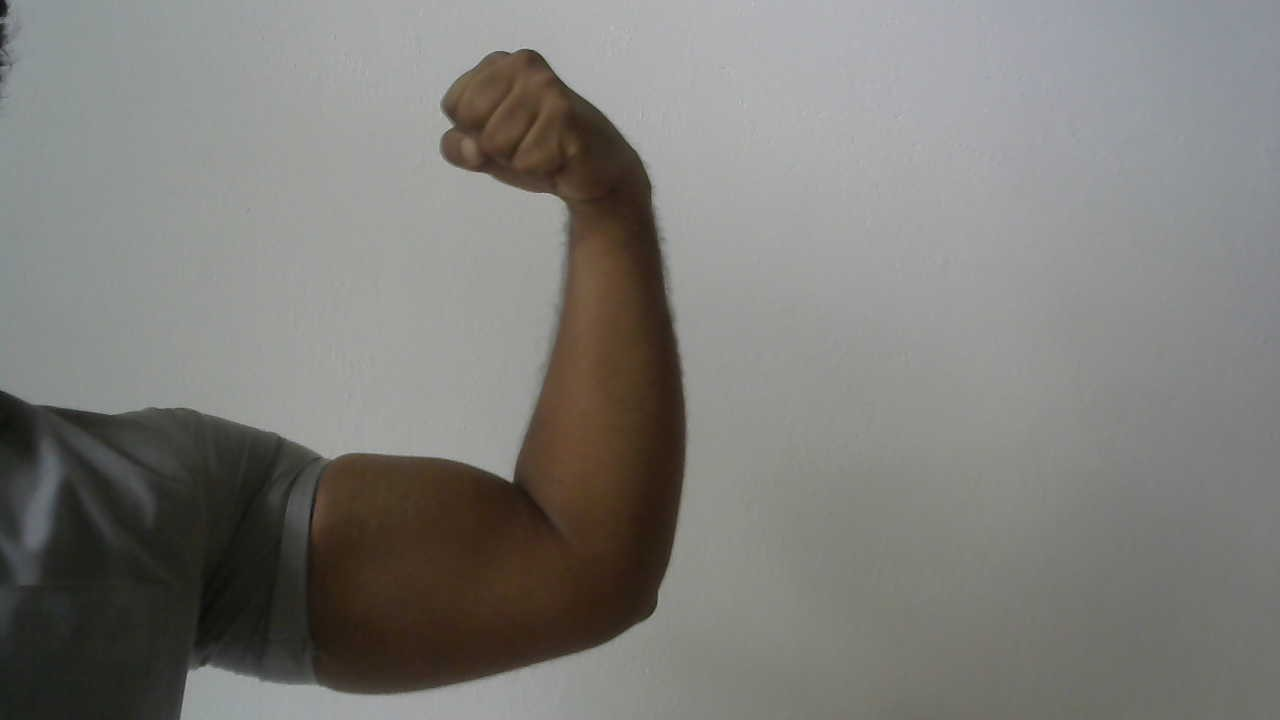yes: (427, 26, 692, 282)
